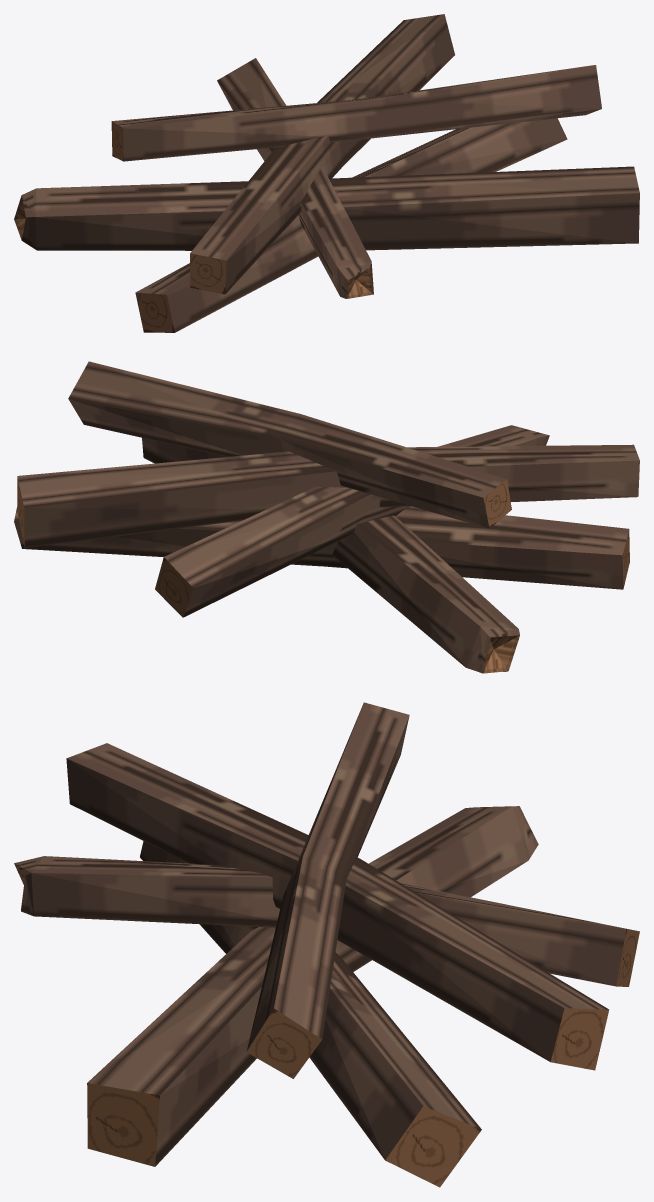
The model's file is SM_DW09_SticksSmall.fbx.
The picture shows the model from 3 angles, top to bottom: view 1: azimuth 30°, elevation 25°; view 2: azimuth 150°, elevation 25°; view 3: azimuth 270°, elevation 25°; orthographic projection. The views are drawn at different scales.
Visible parts, largest first — view 1: DW09_Wood; view 2: DW09_Wood; view 3: DW09_Wood.
Part boxes in pixels (box(x1,y1,x2,y2)): DW09_Wood: box(14, 14, 639, 332); DW09_Wood: box(14, 361, 639, 673); DW09_Wood: box(14, 702, 639, 1187).
Bounding box in the file's own units: 0.9434 × 0.2733 × 0.7654.
